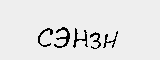З: (88, 30, 102, 53)
Н: (102, 29, 119, 52), (73, 27, 88, 51)
С: (36, 25, 52, 51)
Э: (54, 26, 71, 49)
